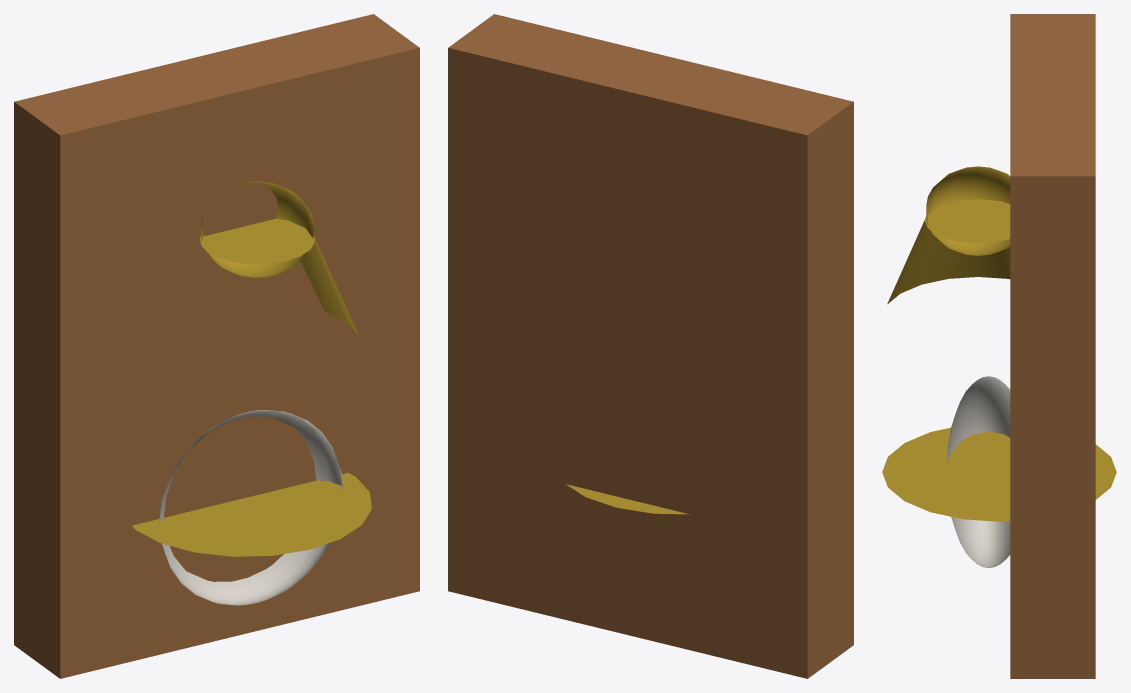
Rendered from doorbell.glb.
3 renders of one model, left to right at view 1: azimuth 30°, elevation 25°; view 2: azimuth 150°, elevation 25°; view 3: azimuth 270°, elevation 25°, orthographic. The views are drawn at different scales.
Parts seen in each view (by area): view 1: ClayAsset; view 2: ClayAsset; view 3: ClayAsset.
Part boxes in pixels (x1,y1,x2,y2): ClayAsset: (14, 14, 419, 678); ClayAsset: (448, 14, 853, 678); ClayAsset: (882, 14, 1116, 678).
Size of the model in its own units: 0.36 by 0.52 by 0.22.
